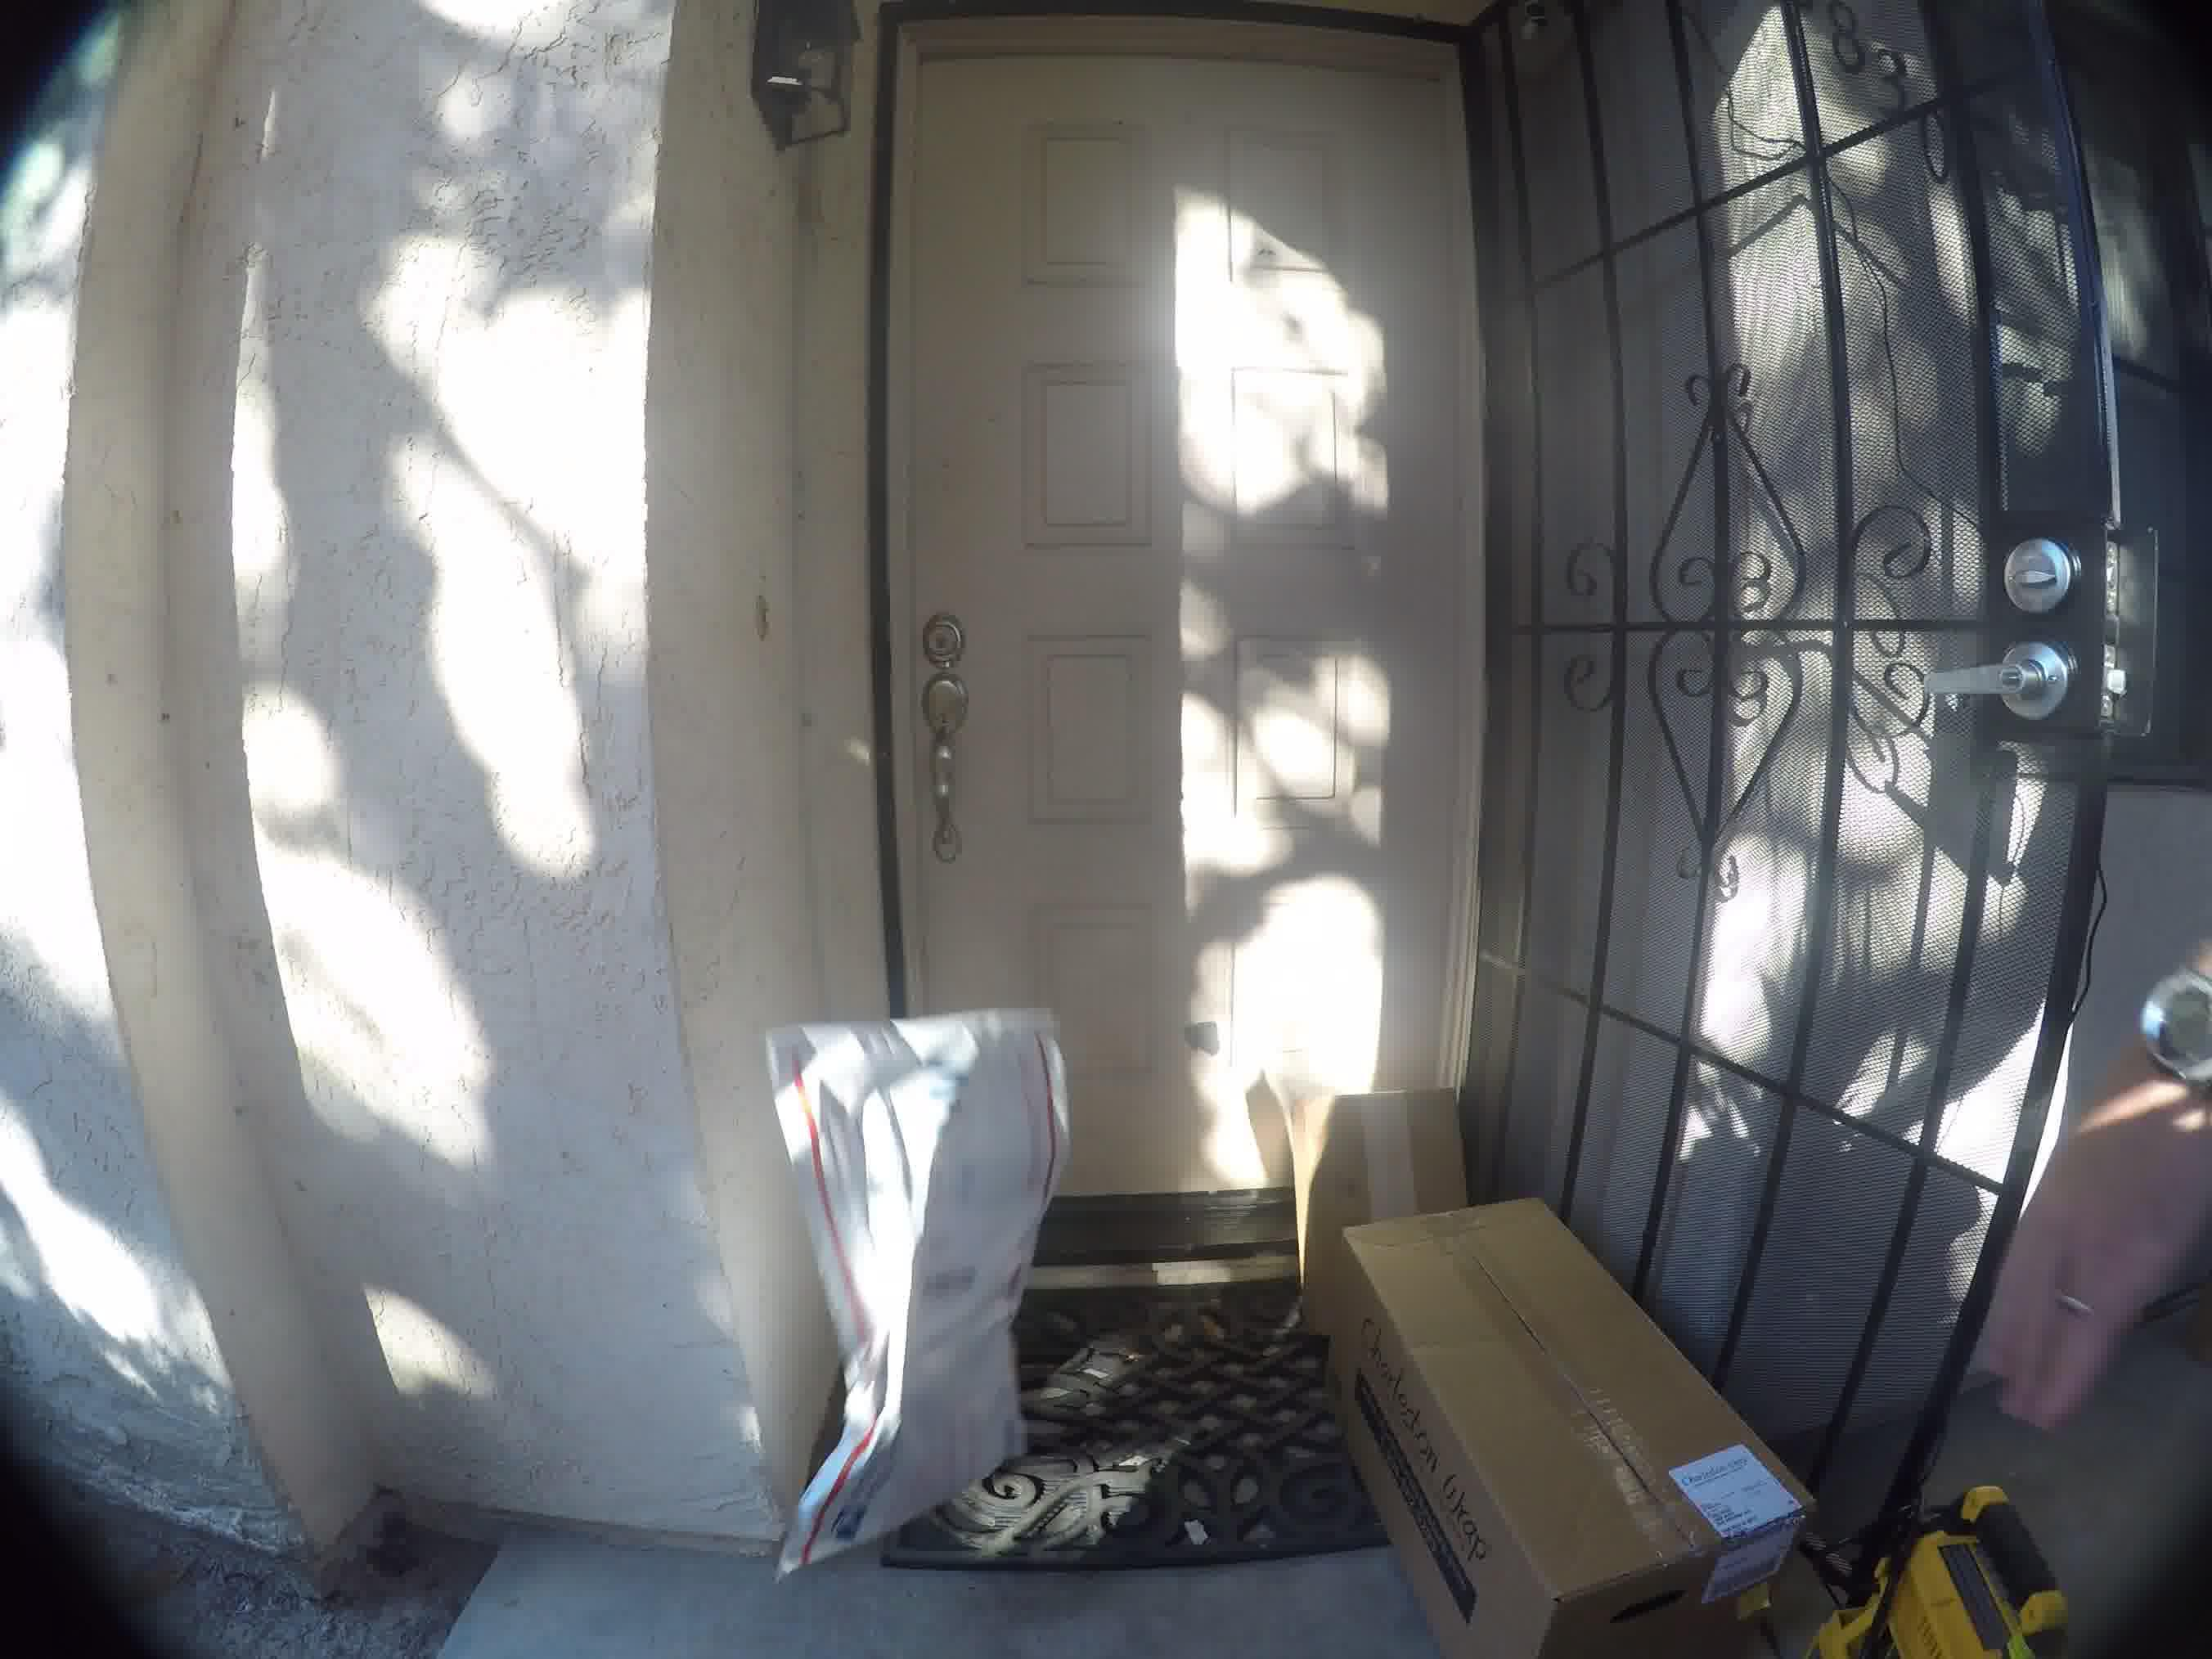box: (1331, 1215, 1794, 1607), (1261, 1035, 1496, 1208)
plastic_bag: (761, 990, 1087, 1584)
